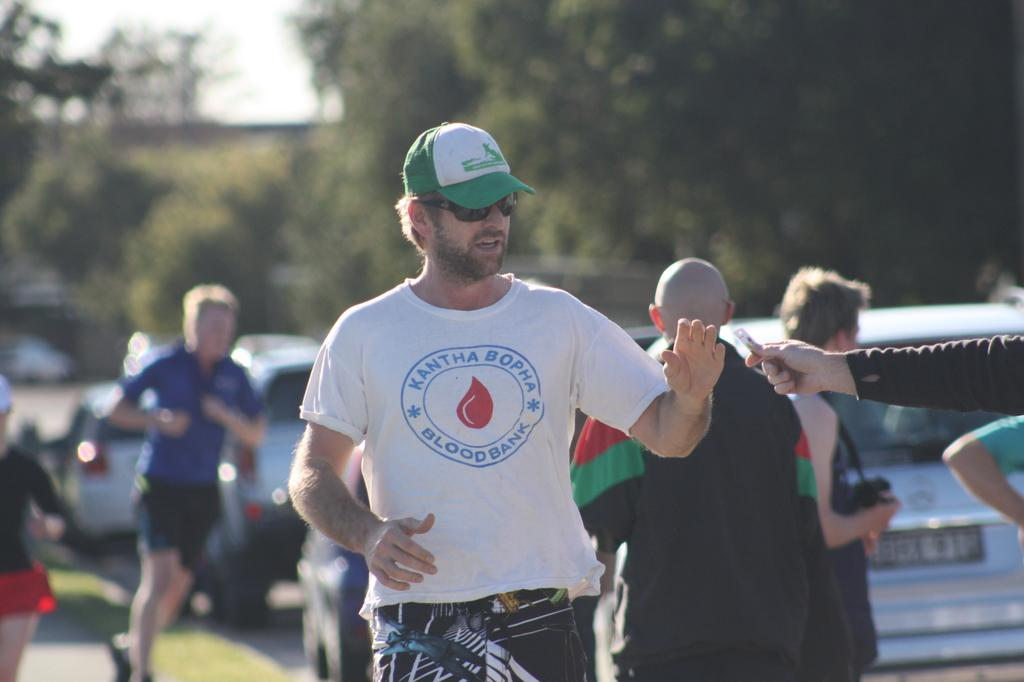Hat: (404, 120, 534, 212)
